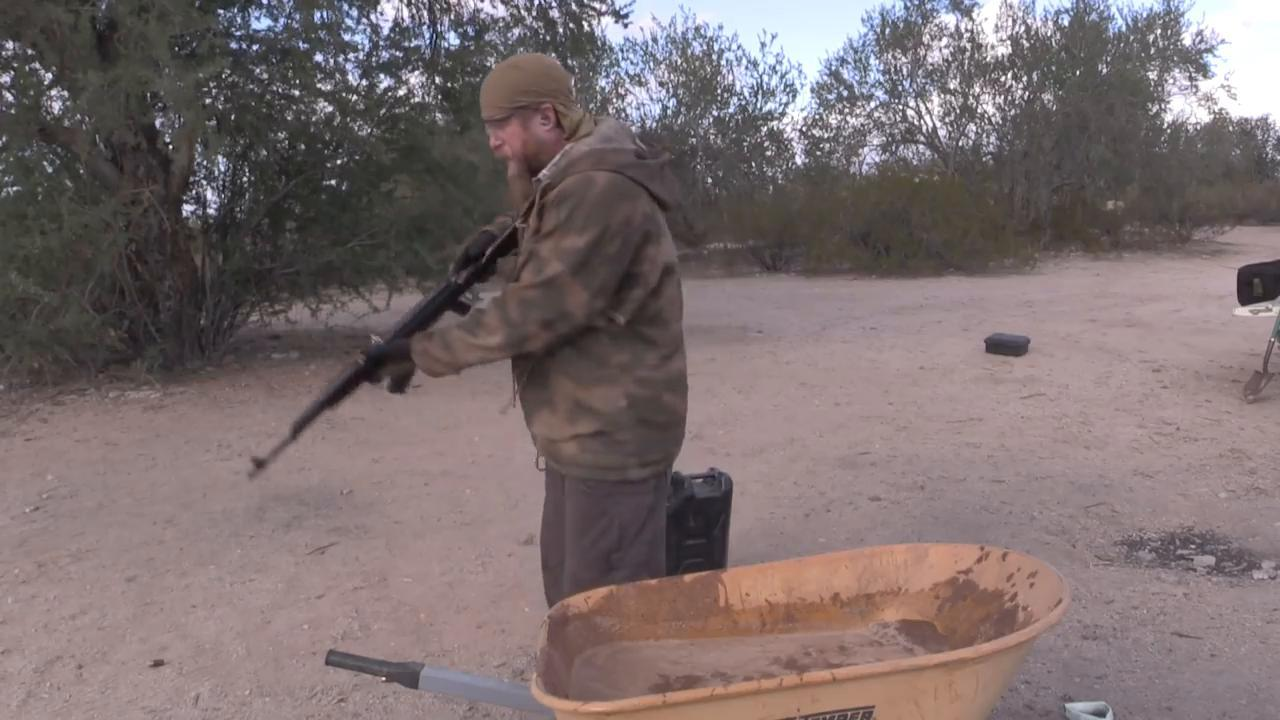AK47 Rifle: (245, 222, 517, 474)
